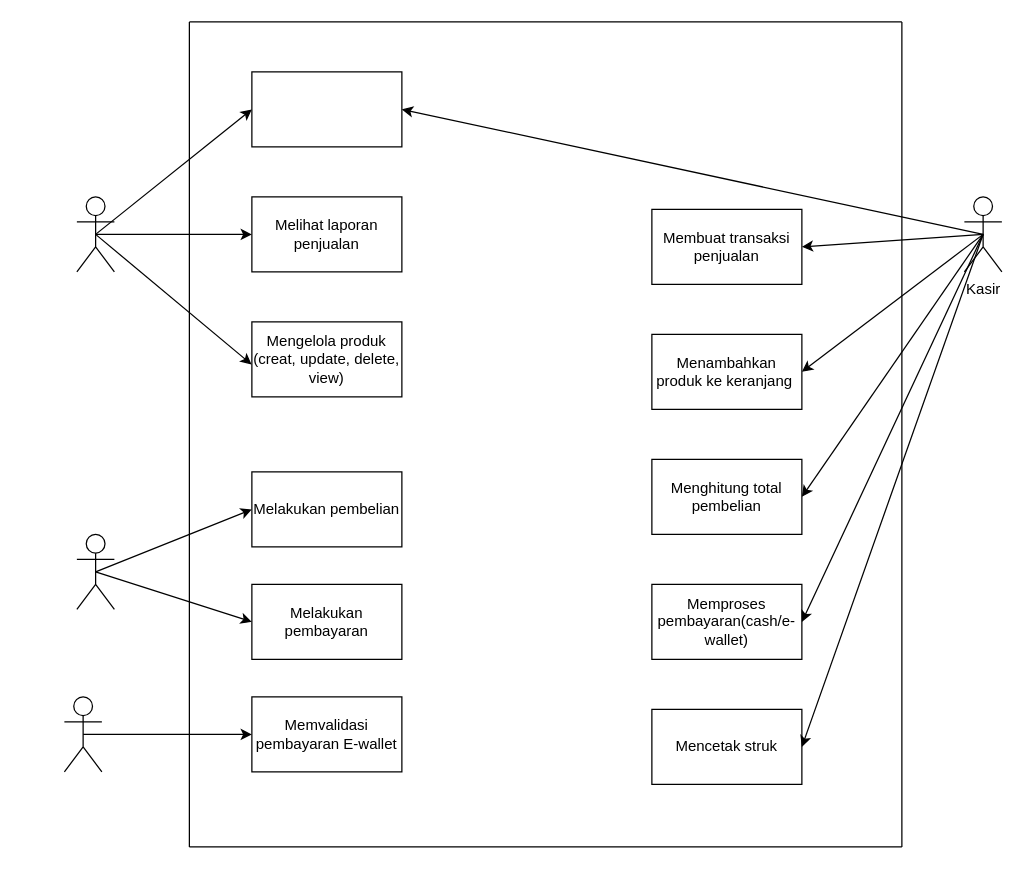
Some shapes in this 1024 by 870 pixel diagram are drawn without their labels. The centre of each missing label's shape, as x and y in pixels:
Admin: point 95,234
Customer: point 95,571
Login: point 326,109
Payment Gateway: point 82,734
